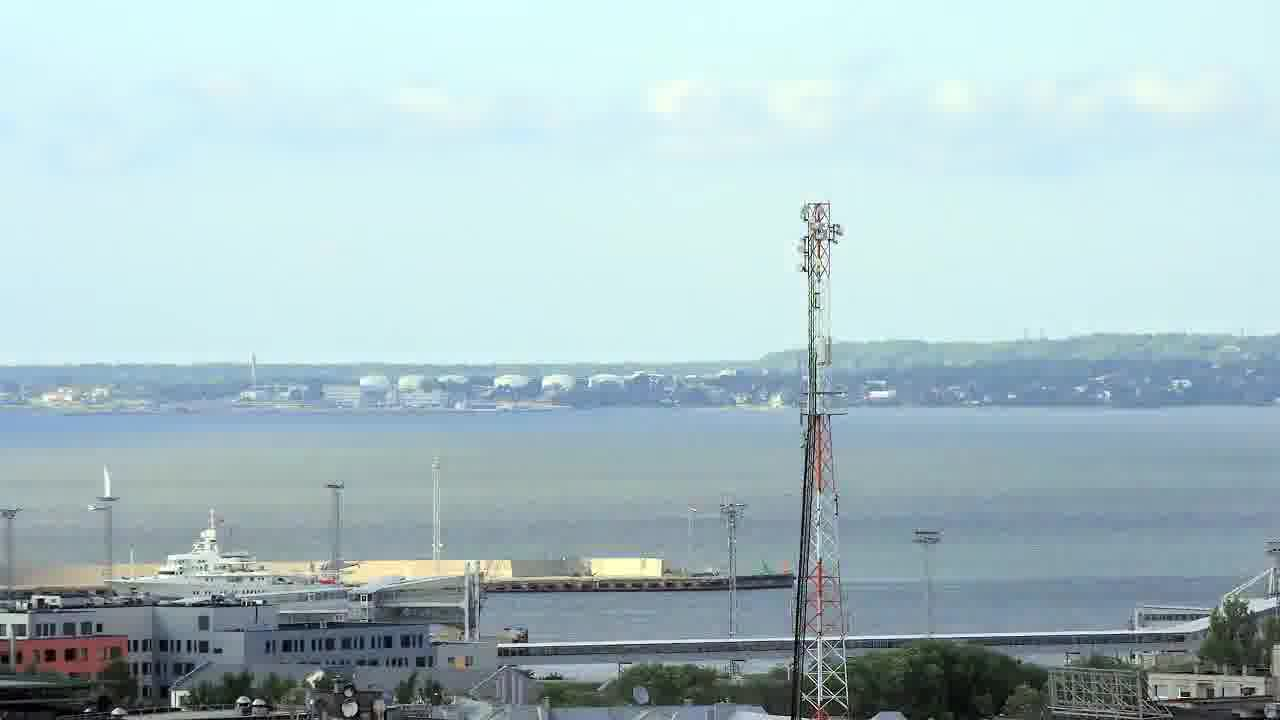type-2: (78, 455, 133, 522)
type-3: (84, 515, 355, 603)
